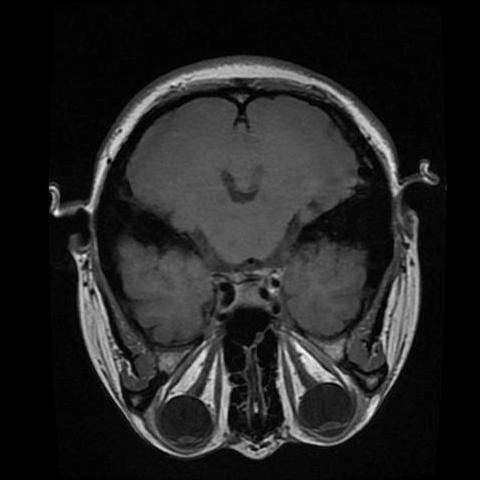Tumour-Pituitary: (212, 270, 282, 321)
